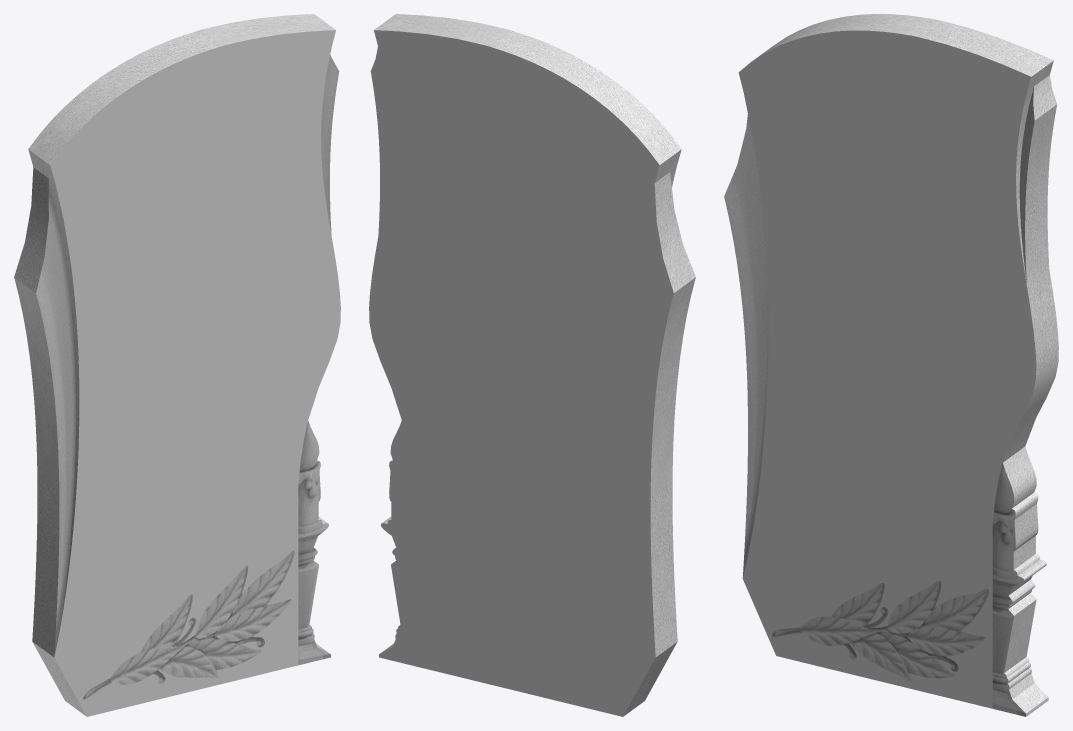
The model's file is cnbd768bd506_tkf.glb.
3 renders of one model, left to right at view 1: azimuth 30°, elevation 25°; view 2: azimuth 150°, elevation 25°; view 3: azimuth 330°, elevation 25°, orthographic. The views are drawn at different scales.
Visible parts, largest first — view 1: Pam-d03-037, Pam-d03-037_2_notexture; view 2: Pam-d03-037, Pam-d03-037_2_notexture; view 3: Pam-d03-037, Pam-d03-037_2_notexture.
Part boxes in pixels (<box>): Pam-d03-037: <box>50,30,340,716</box>; Pam-d03-037_2_notexture: <box>14,14,339,716</box>; Pam-d03-037: <box>369,30,673,716</box>; Pam-d03-037_2_notexture: <box>374,14,695,716</box>; Pam-d03-037: <box>738,30,1036,708</box>; Pam-d03-037_2_notexture: <box>724,14,1058,716</box>.
Bounding box in the file's own units: 0.4 × 0.8 × 0.05.
Materials: 1 (1 with a texture image).
